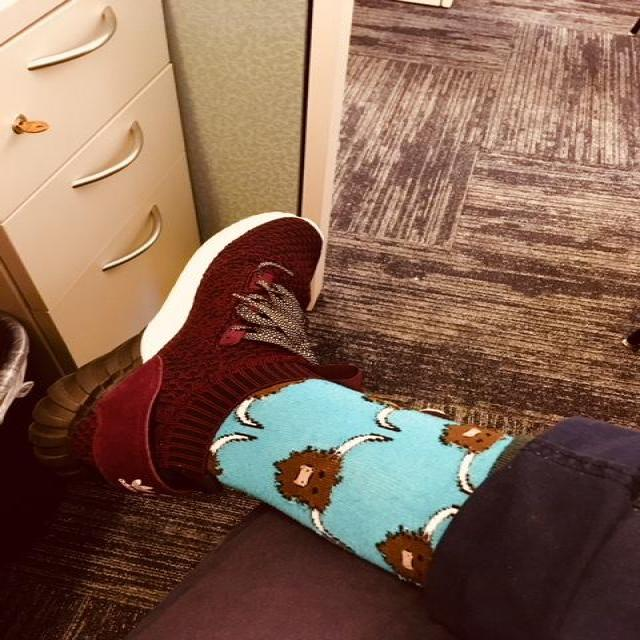shoe: (24, 209, 371, 505)
